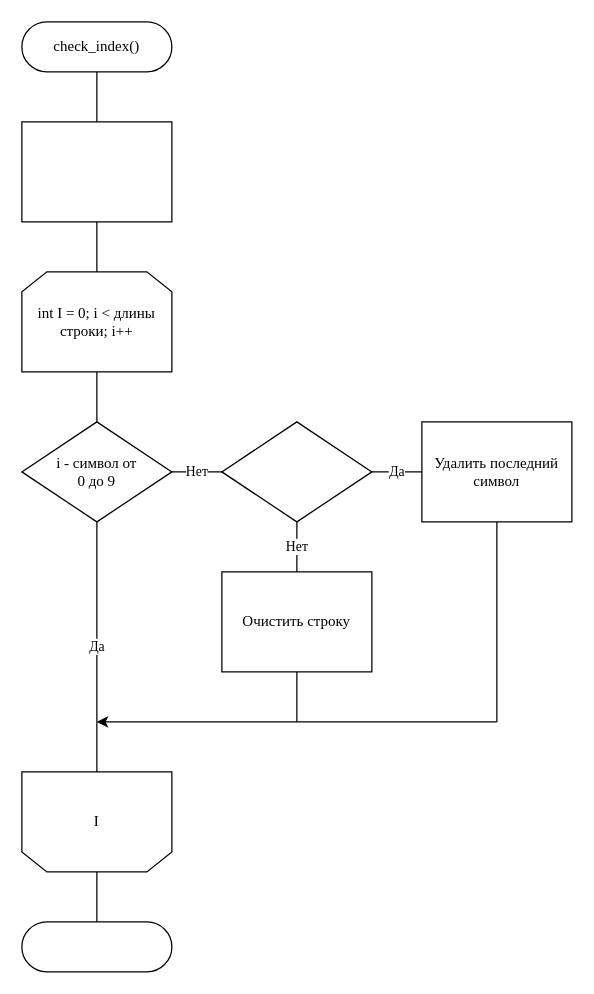
The diagram is 594 pixels wide and 994 high, and some of its shapes have lost their labels. The centre of each missing label's shape, as x and y in pixels:
Длина строки > 1: the point at 296,471
Конец: the point at 96,946
Определение строковой переменной, значение поля ввода индеса: the point at 96,171
